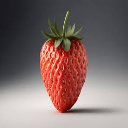strawberry: (38, 13, 89, 113)
